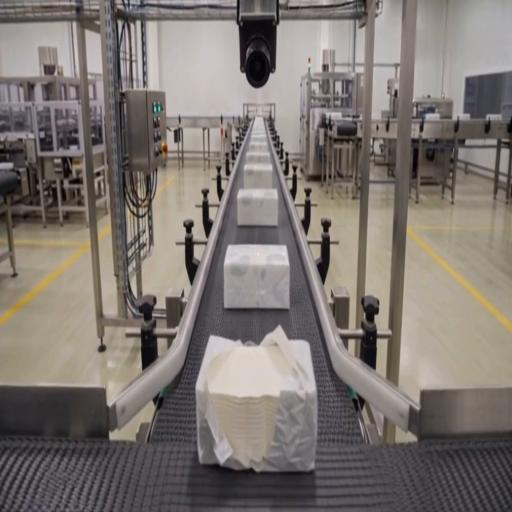defective: (196, 330, 317, 472)
good: (223, 244, 290, 310), (236, 188, 280, 229), (243, 162, 274, 190), (245, 134, 270, 163), (248, 118, 268, 136)
